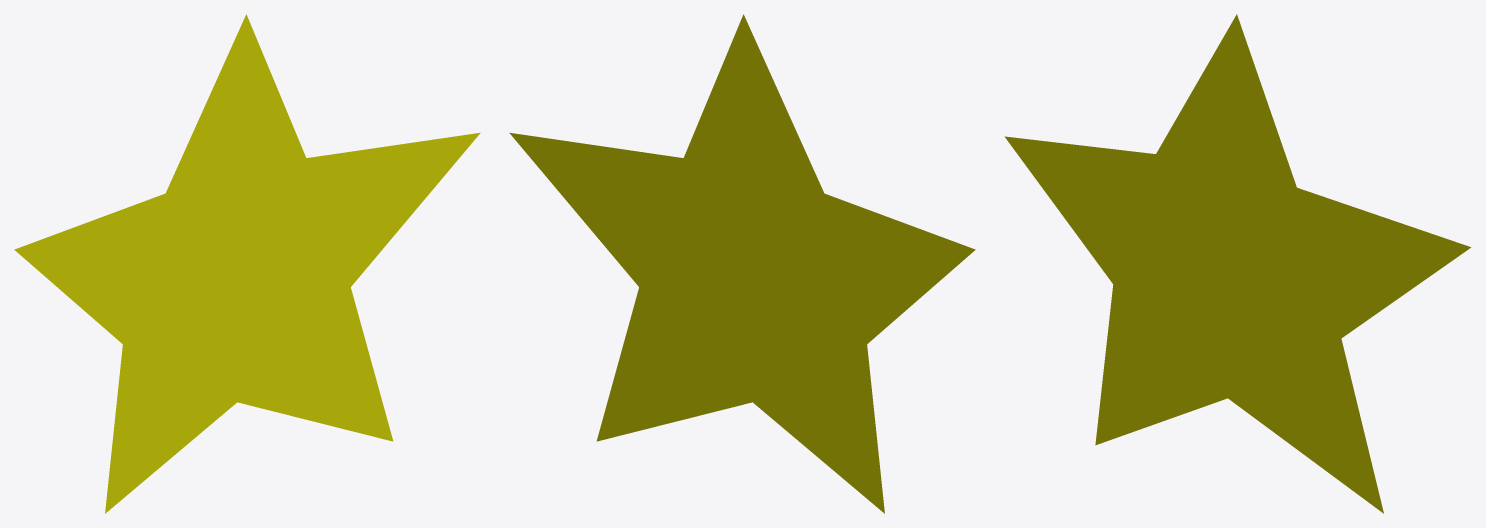
The model's file is Estrella.fbx.
The picture shows the model from 3 angles, left to right: view 1: azimuth 30°, elevation 25°; view 2: azimuth 150°, elevation 25°; view 3: azimuth 330°, elevation 25°; orthographic projection.
Parts seen in each view (by area): view 1: Star; view 2: Star; view 3: Star.
Part boxes in pixels (box(x1,y1,x2,y2)): Star: box(14, 14, 480, 513); Star: box(509, 14, 975, 513); Star: box(1004, 14, 1470, 513).
Size of the model in its own units: 4.73 by 4.51 by 0.
